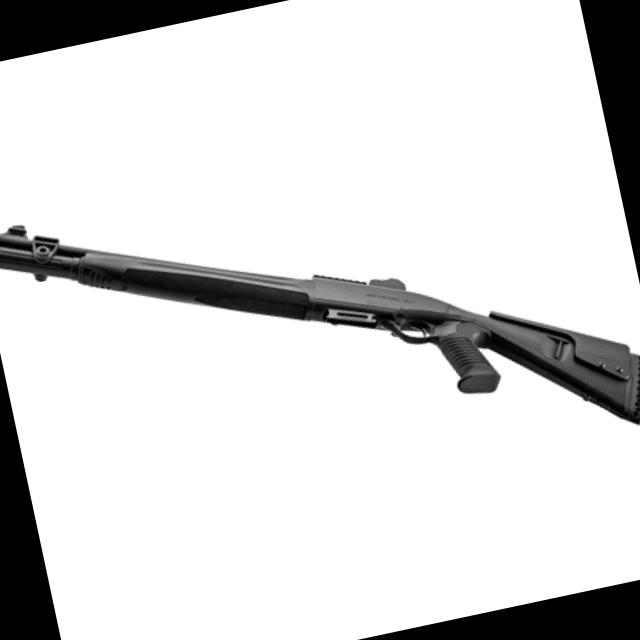Weapon: (0, 94, 640, 560)
